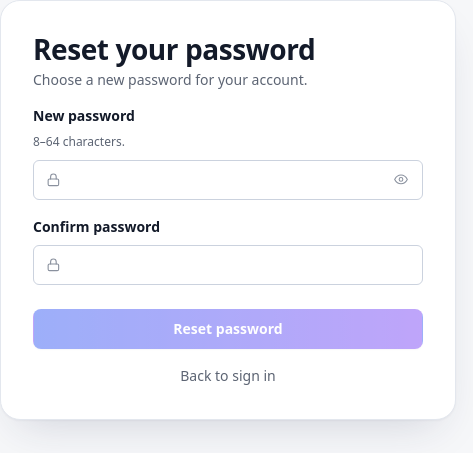
Test case: PasswordResetForm › mode=reset › submits the token and new password, then shows success without auto-login
Type "a-perfectly-fine-password" into the password field labelled "New password". click: (228, 180)
box: [33, 160, 423, 200]
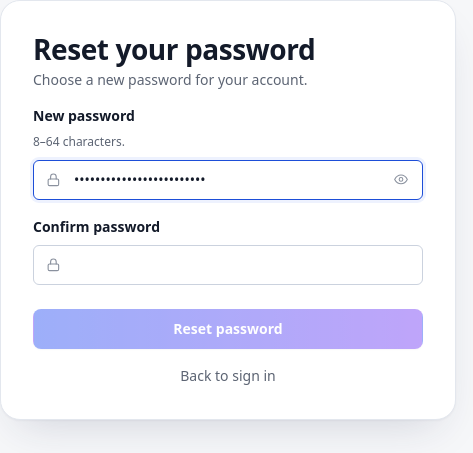
Type "a-perfectly-fine-password" into the password field labelled "Confirm password". click: (228, 266)
box: [33, 246, 423, 286]
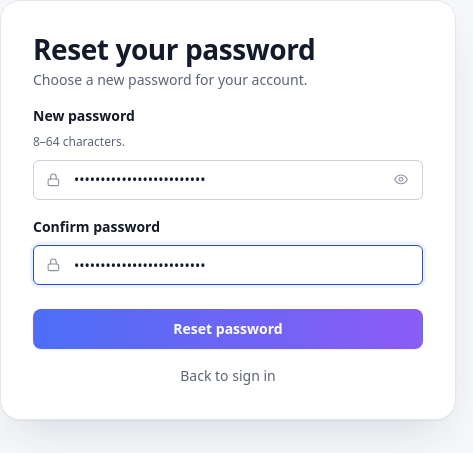
Click the button "Reset password". click: click(228, 330)
box: [33, 310, 423, 350]
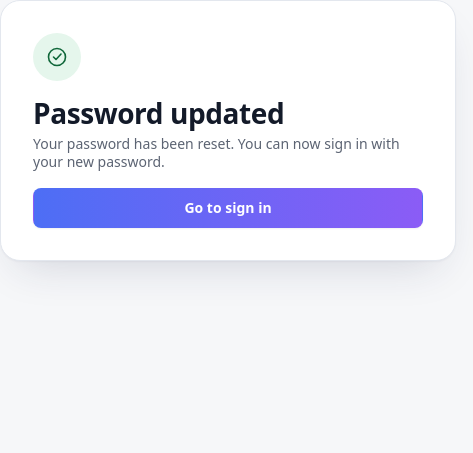
Now the heading "Password updated" is shown, box [33, 94, 284, 132]
